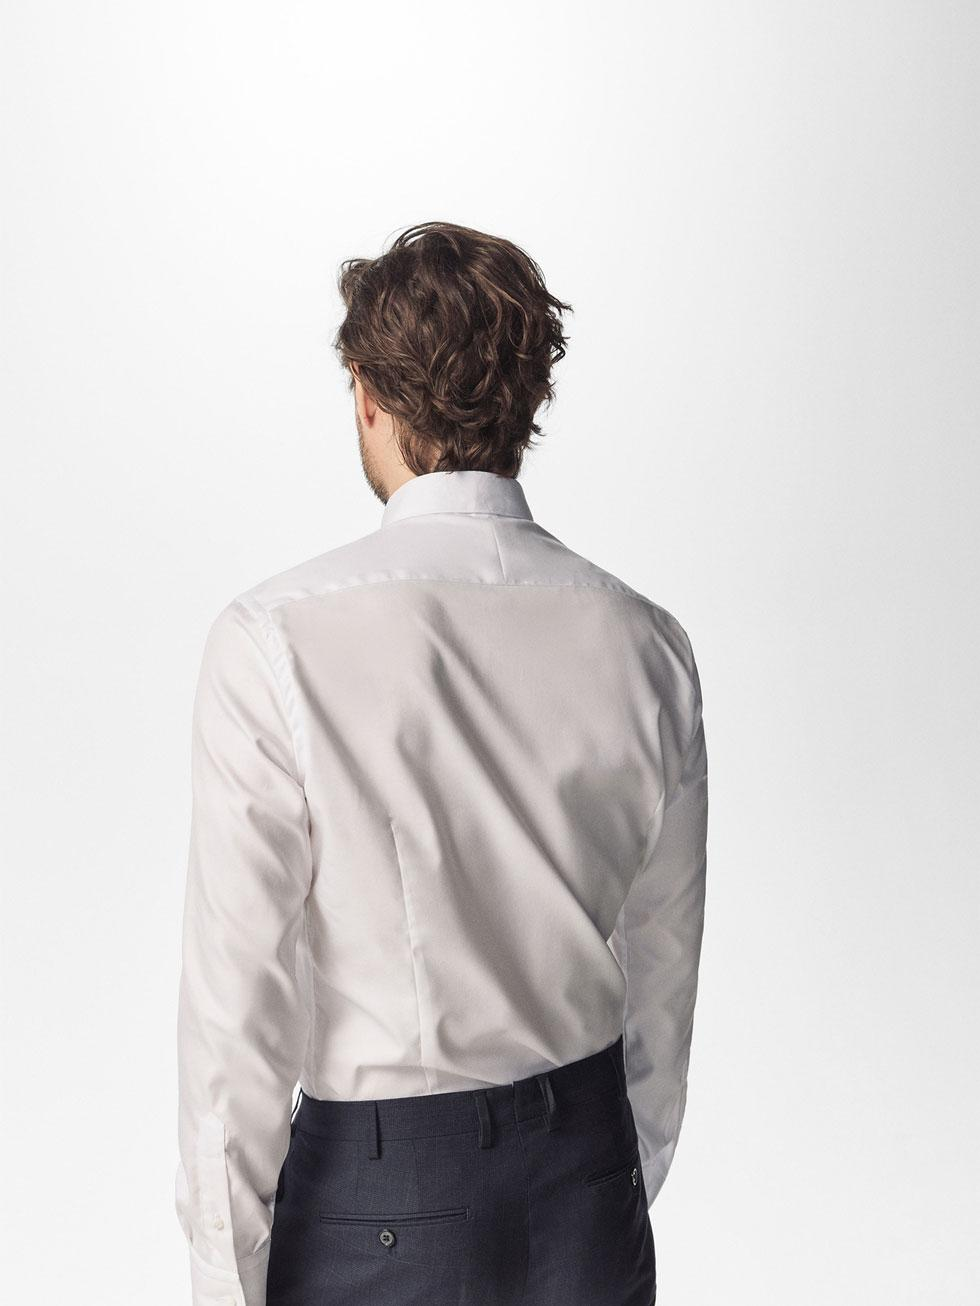teeshirt: (169, 459, 749, 1281)
